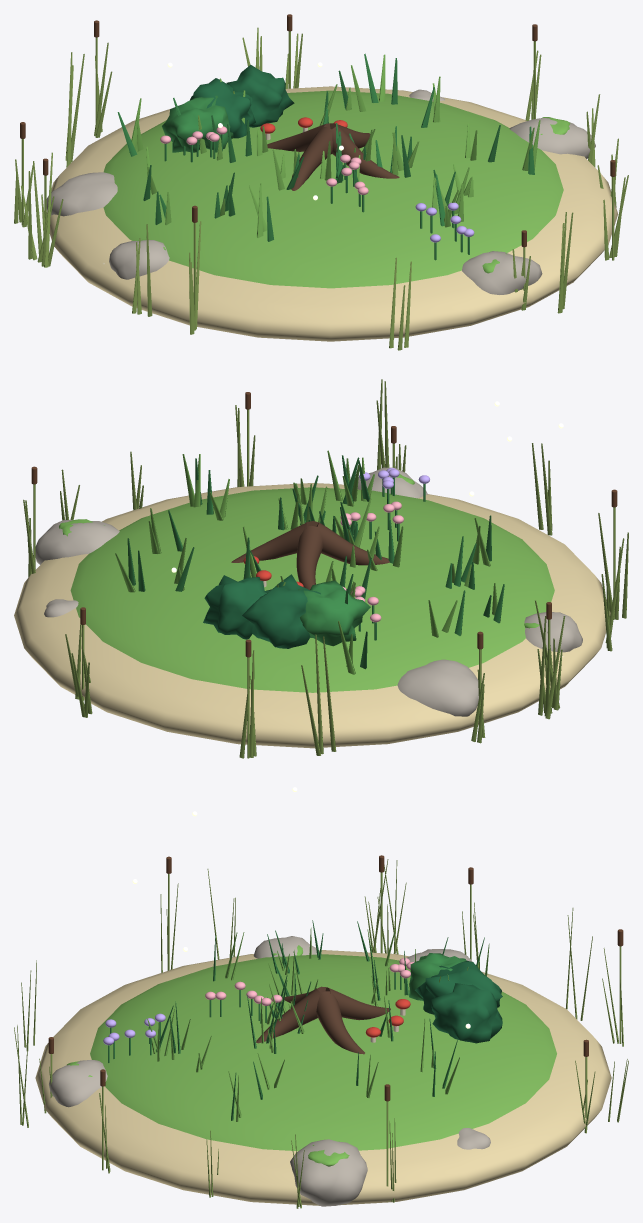
The model's file is islet_03.glb.
3 renders of one model, top to bottom at view 1: azimuth 30°, elevation 25°; view 2: azimuth 150°, elevation 25°; view 3: azimuth 270°, elevation 25°, orthographic. The views are drawn at different scales.
Visible parts, largest first — view 1: islet_grass.003, islet_sand.003, bush.011, rock.021, rock.020, bush.009, rock.019, bush.010, rock.023, root.014, root.015, root.013; view 2: islet_grass.003, islet_sand.003, rock.020, bush.010, bush.011, bush.009, rock.019, rock.023, root.013, root.014, root.012, rock.021; view 3: islet_grass.003, islet_sand.003, rock.019, bush.009, rock.021, bush.010, root.012, bush.011, root.015, rock.023, root.013, rock.022.
Part boxes in pixels (<box>): islet_grass.003: <box>103,90,563,288</box>; islet_sand.003: <box>46,86,617,341</box>; bush.011: <box>162,95,233,152</box>; rock.021: <box>462,251,542,294</box>; rock.020: <box>46,172,117,216</box>; bush.009: <box>226,64,294,127</box>; rock.019: <box>509,118,595,158</box>; bush.010: <box>189,78,255,138</box>; rock.023: <box>109,240,169,279</box>; root.014: <box>291,126,333,190</box>; root.015: <box>330,126,399,178</box>; root.013: <box>267,123,330,151</box>; islet_grass.003: <box>70,487,554,692</box>; islet_sand.003: <box>14,483,610,748</box>; rock.020: <box>397,659,478,716</box>; bush.010: <box>242,574,320,648</box>; bush.011: <box>298,580,370,646</box>; bush.009: <box>203,575,266,639</box>; rock.019: <box>35,520,119,564</box>; rock.023: <box>524,612,582,652</box>; root.013: <box>296,526,323,589</box>; root.014: <box>316,522,389,565</box>; root.012: <box>231,522,309,562</box>; rock.021: <box>357,467,427,498</box>; islet_grass.003: <box>90,954,556,1151</box>; islet_sand.003: <box>35,950,611,1205</box>; rock.019: <box>290,1139,367,1206</box>; bush.009: <box>431,983,502,1043</box>; rock.021: <box>49,1060,107,1107</box>; bush.010: <box>415,960,502,1014</box>; root.012: <box>316,991,364,1054</box>; bush.011: <box>409,953,466,1000</box>; root.015: <box>256,988,321,1043</box>; rock.023: <box>253,936,319,958</box>; root.013: <box>325,987,390,1020</box>; rock.022: <box>457,1128,490,1149</box>.
Size of the model in its own units: 7.24 by 3.21 by 7.26.
